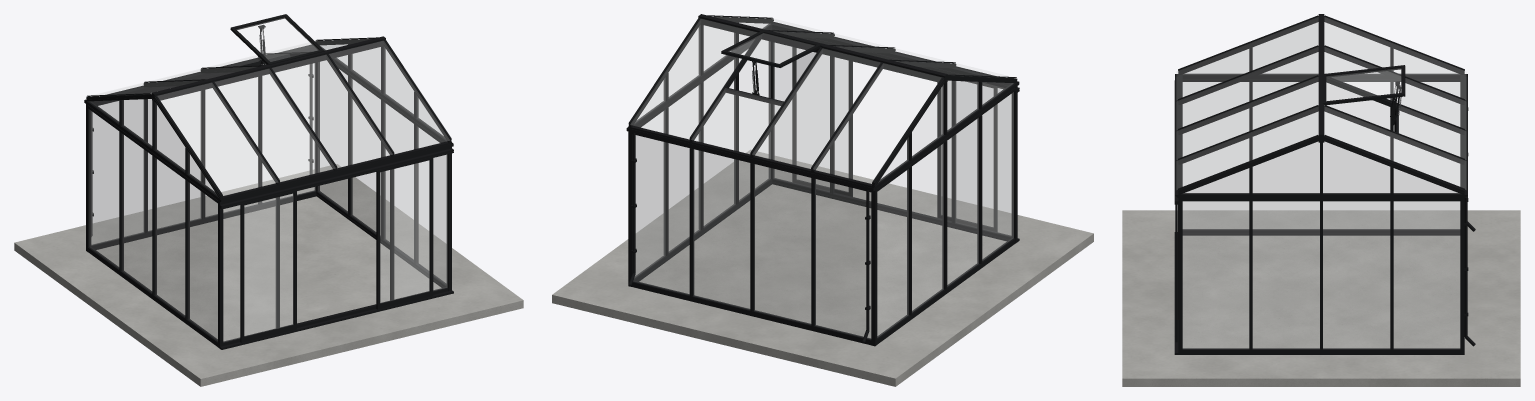
The model's file is sg-rect-10-2-10-2.glb.
The picture shows the model from 3 angles, left to right: view 1: azimuth 30°, elevation 25°; view 2: azimuth 150°, elevation 25°; view 3: azimuth 270°, elevation 25°; orthographic projection. The views are drawn at different scales.
Parts seen in each view (by area): view 1: scandiglas-rect-10-2-10-2; view 2: scandiglas-rect-10-2-10-2; view 3: scandiglas-rect-10-2-10-2.
Boxes of the visible parts, x1,y1,x2,y2 form: scandiglas-rect-10-2-10-2: [14, 14, 523, 386]; scandiglas-rect-10-2-10-2: [552, 14, 1093, 386]; scandiglas-rect-10-2-10-2: [1122, 14, 1520, 386].
Size of the model in its own units: 4.38 by 2.89 by 4.38.
Materials: 5 (1 with a texture image).
